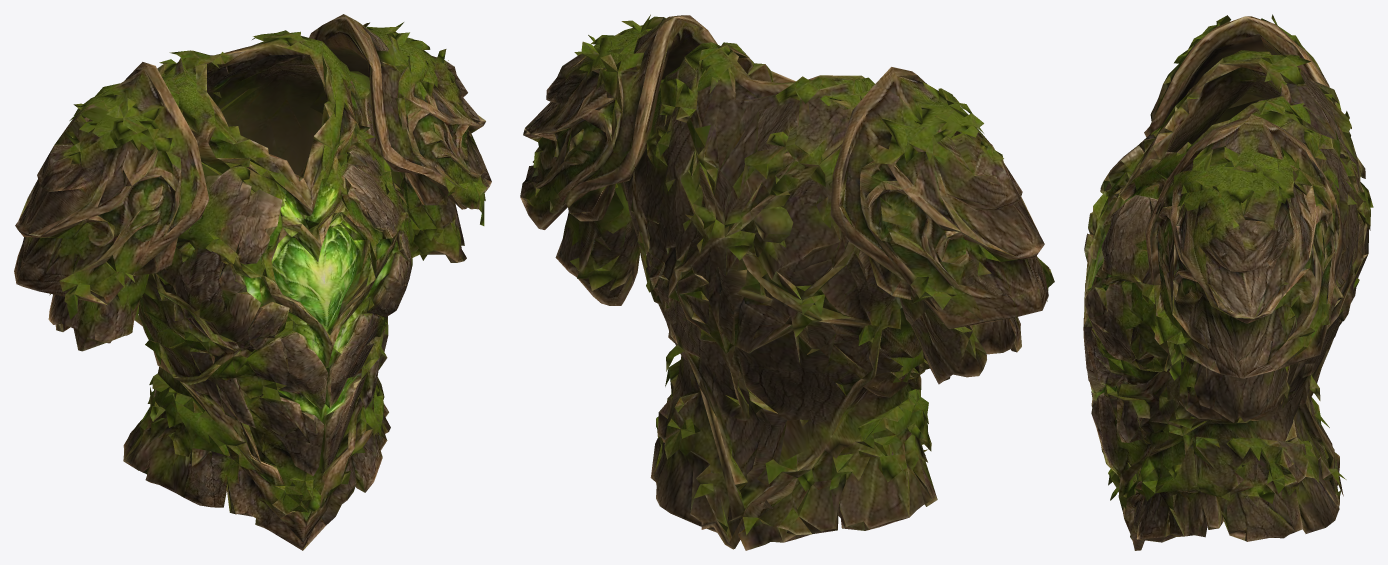
Rendered from mossheart_aegis.glb.
3 views of the same model, side by side, from view 1: azimuth 30°, elevation 25°; view 2: azimuth 150°, elevation 25°; view 3: azimuth 270°, elevation 25° (orthographic). The views are drawn at different scales.
Bounding box in the file's own units: 2 × 1.91 × 1.03.
Materials: 1 (1 with a texture image).
